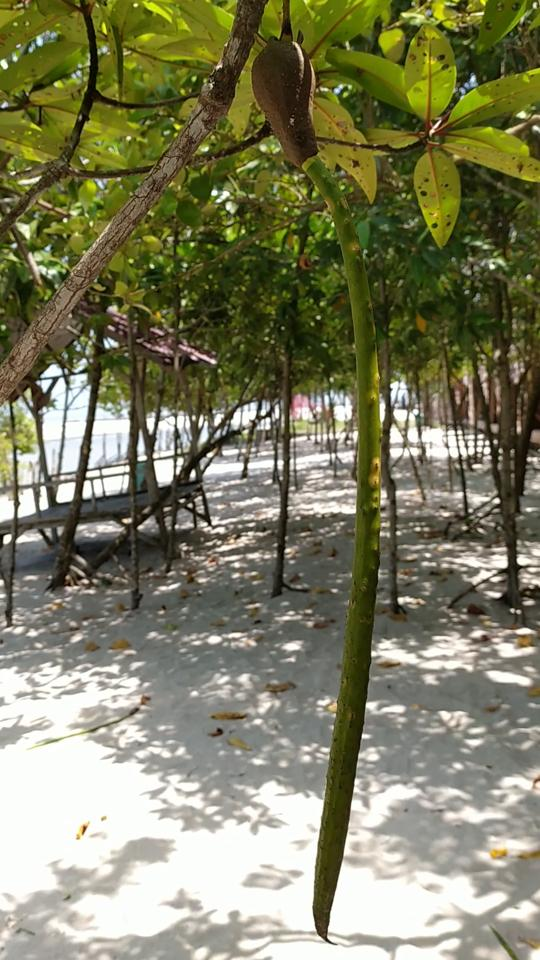setengah matang: (241, 27, 385, 955)
